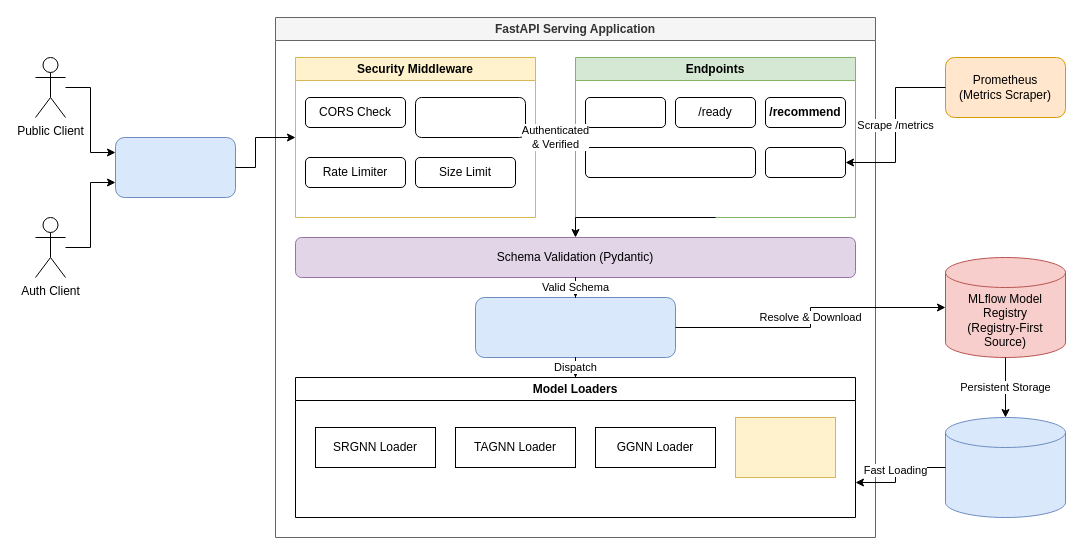
Some shapes in this 1083 by 555 pixel diagram are drawn without their labels. The shapes that lost their labels are listed below. From the top down, each one's centre as x and y in pixels, then its label:
point 470,117: API Key Auth (Bearer Token)
point 625,112: /health
point 175,167: K8s Ingress / ALB (TLS Termination)
point 670,162: /products, /views...
point 805,162: /metrics
point 575,327: Predictor Logic (predictor.py)
point 785,447: model.json Metadata Resolver
point 1005,467: Local Cache (PVC) /app/models/cache
